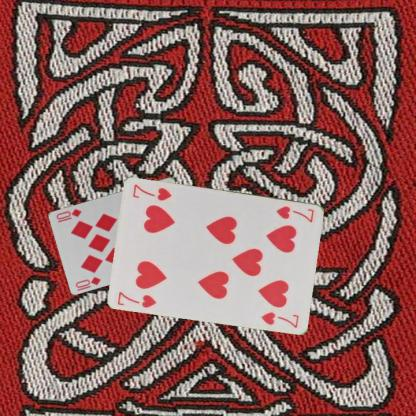10d: (72, 274, 102, 289)
7h: (115, 288, 158, 309), (274, 203, 315, 223)
